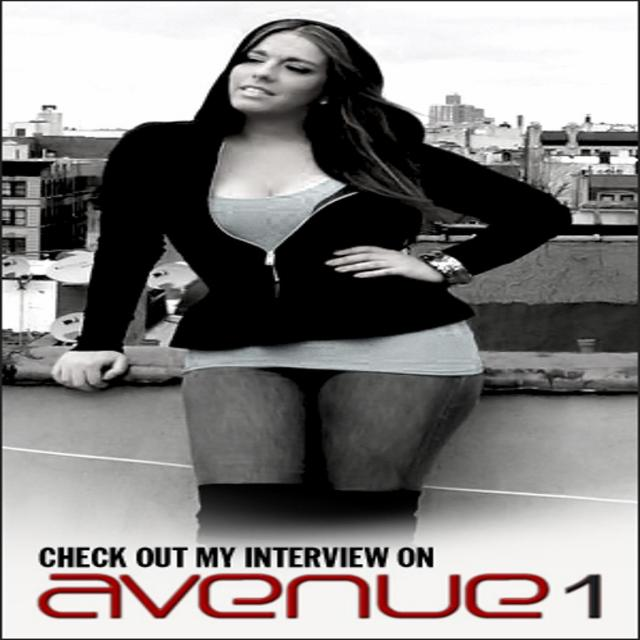nomask: (227, 29, 329, 110)
